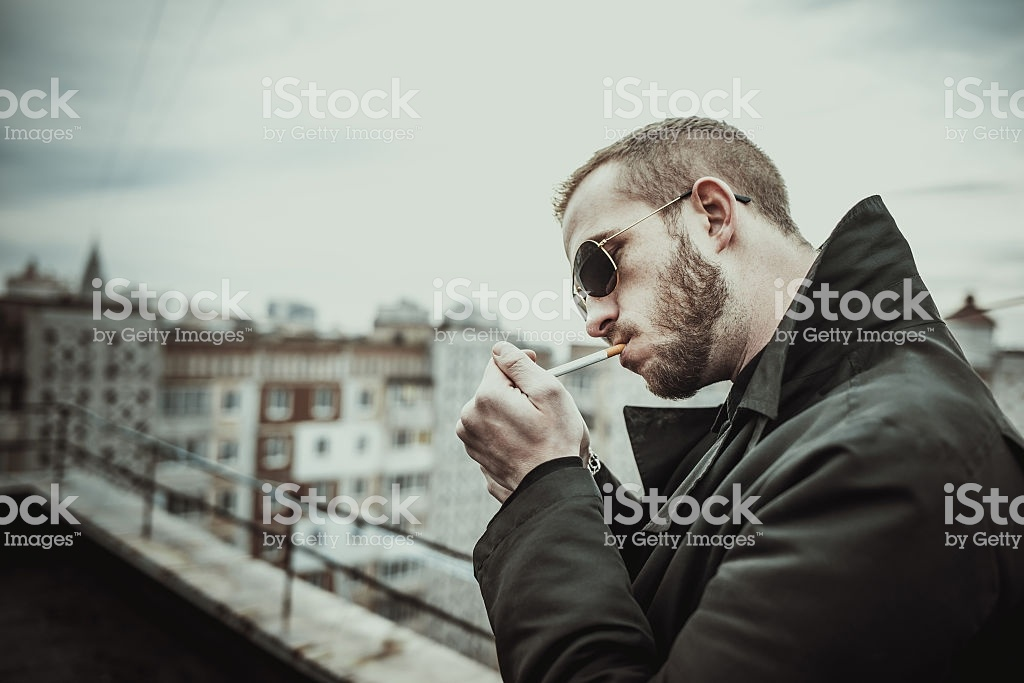sigaretta: (524, 339, 626, 385)
